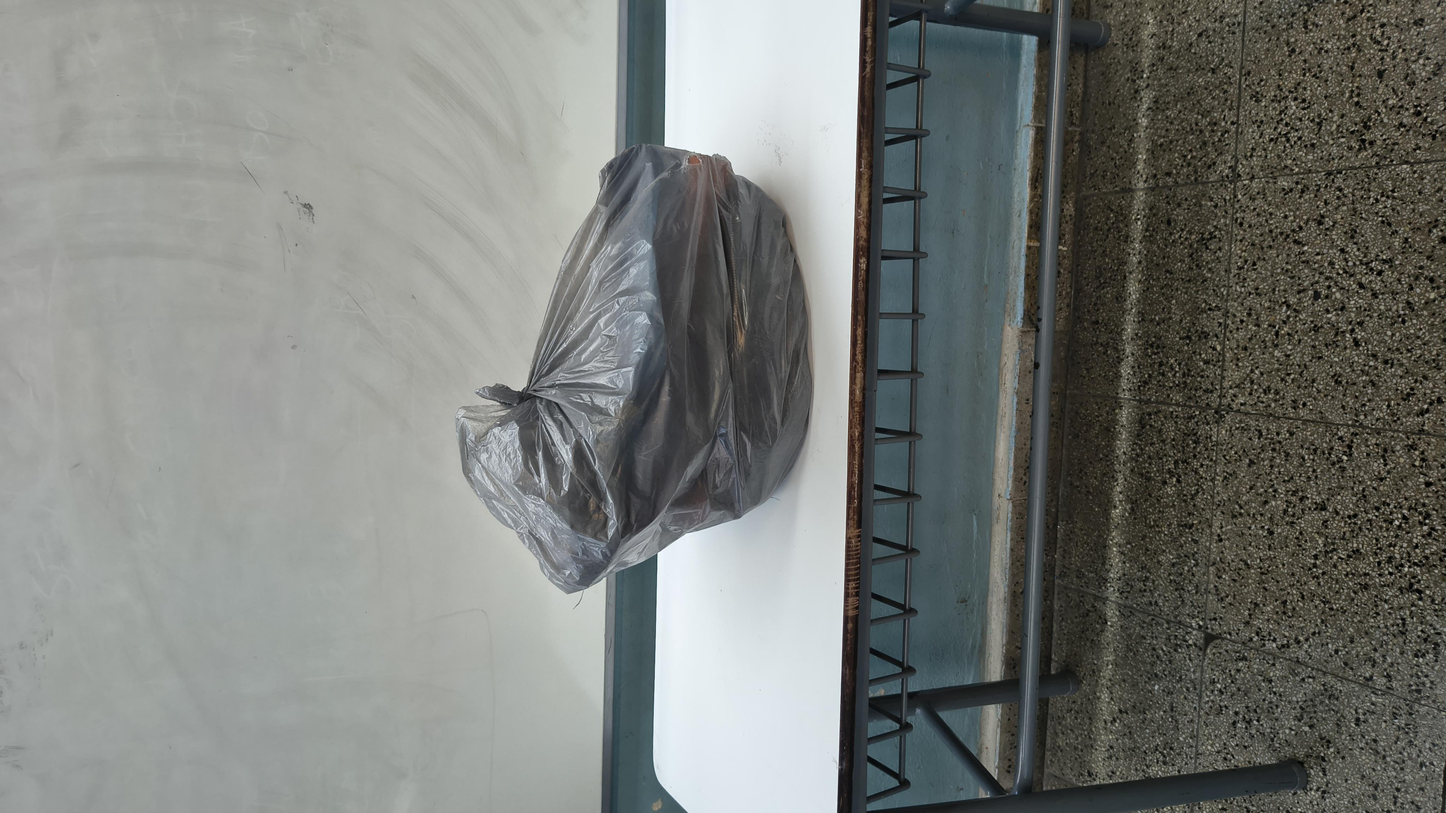Garbage: (301, 224, 1349, 496)
